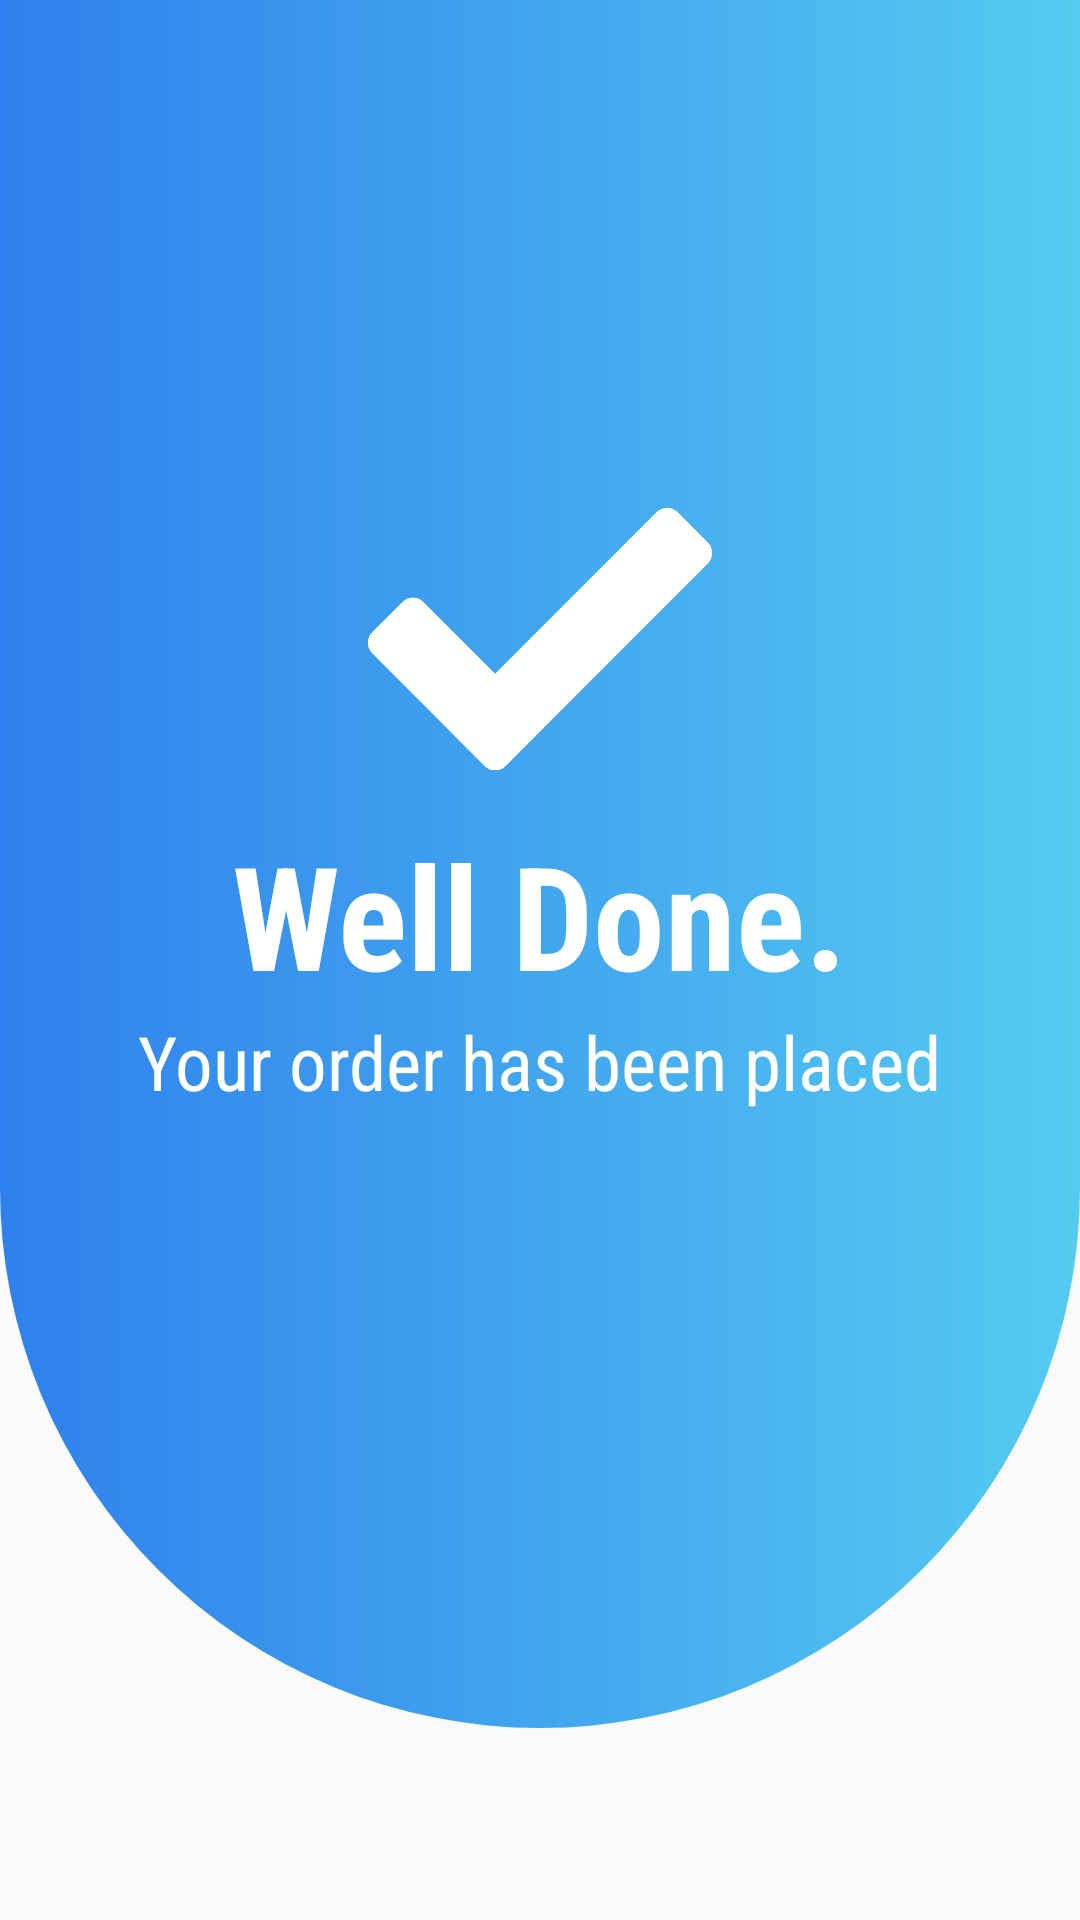

Where icons sit on this 1080w x 1920h app screen, as (x1,y1,x2,y2):
checkmark: (368,508,712,770)
